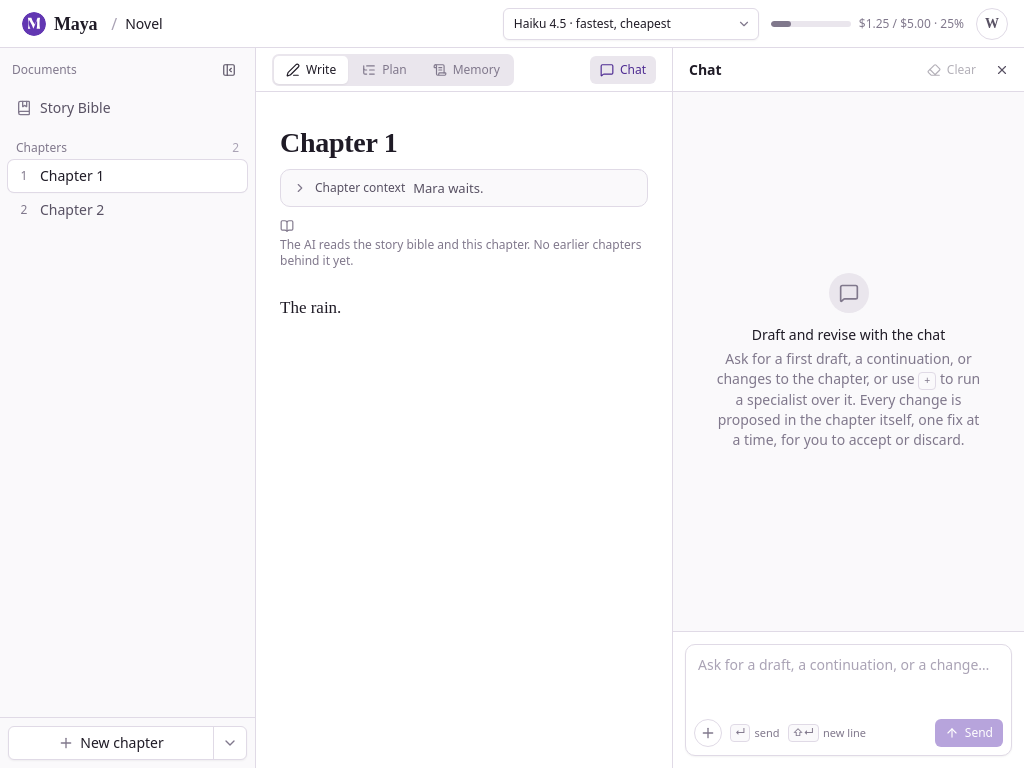
Test case: WorkspaceScreen › runs a continuity pass from the picker and takes its fix in the prose
The image size is (1024, 768).
Expected: the field named "Document body" is shown, [280,298,341,317]
Click the button named "run a specialist": coordinates (708, 733) [694,719,722,747]
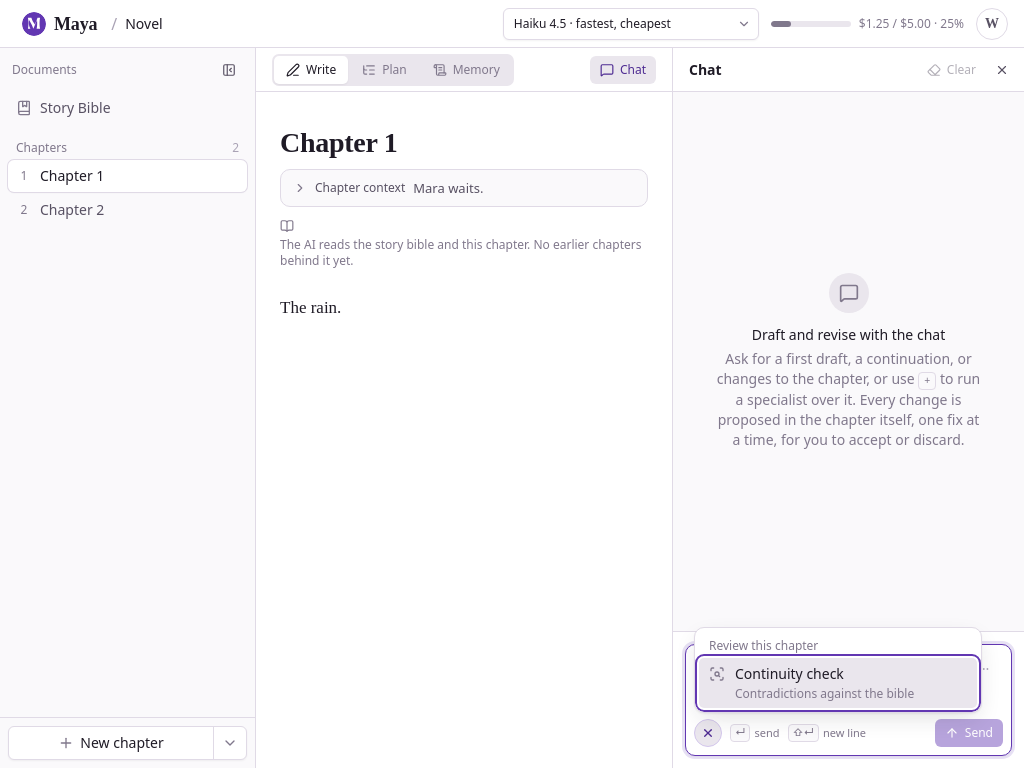
Click the menu item "Continuity check Contradictions against the bible": coordinates (838, 683) [699,658,977,708]
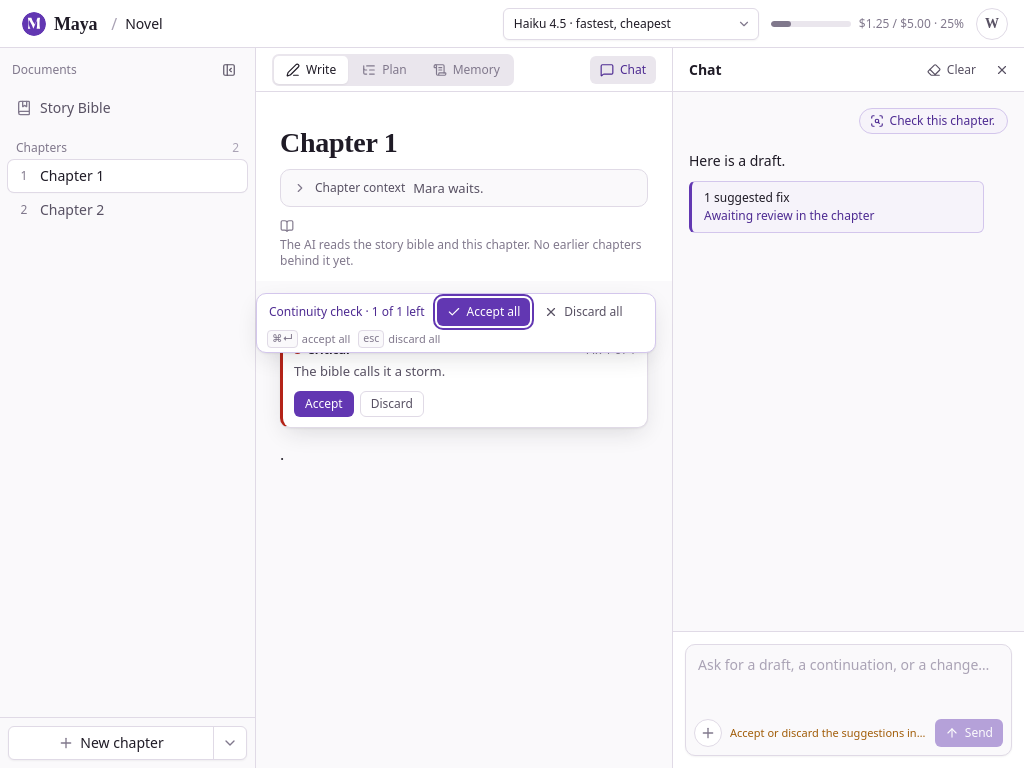
Result: the field named "Document body" shows "The bible calls it a storm." at [294,362,445,380]
Result: the element named "Review proposal" shows "Continuity check" at [269,303,425,320]
Click the button with aria-label "Accept fix 1": coordinates (324, 404) [294,391,354,417]
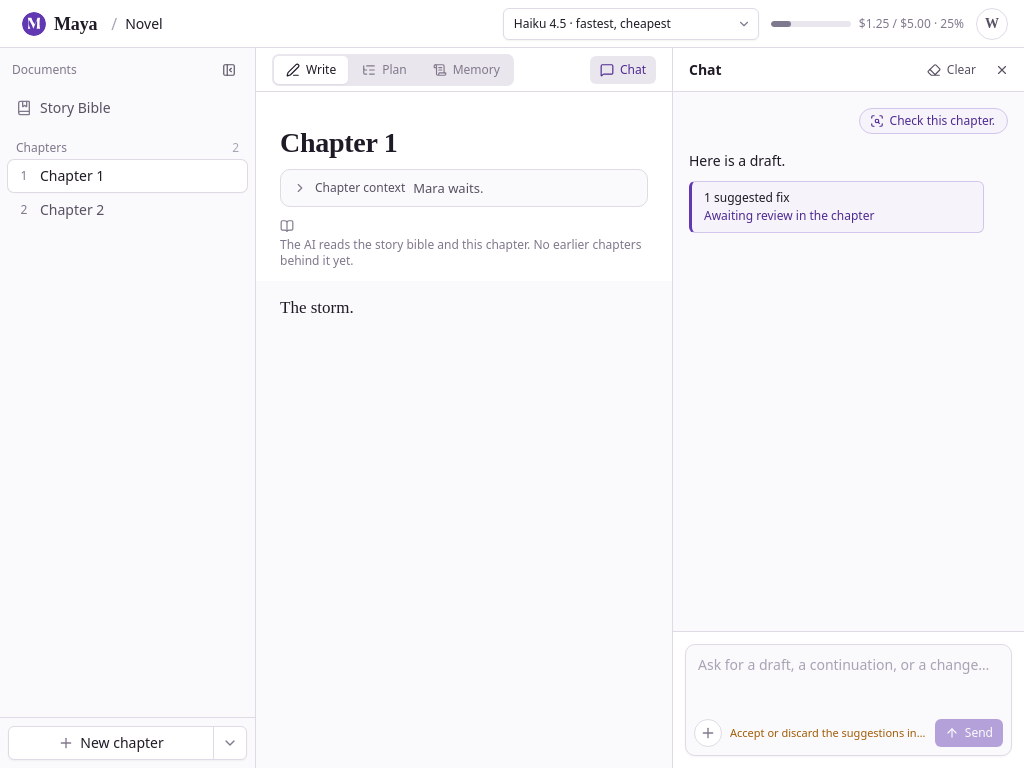
Result: the text "The storm." is shown at [280,298,354,317]
